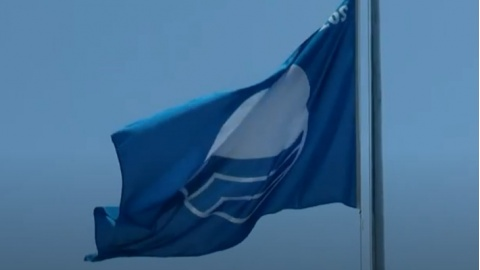Flag: (84, 1, 356, 263)
